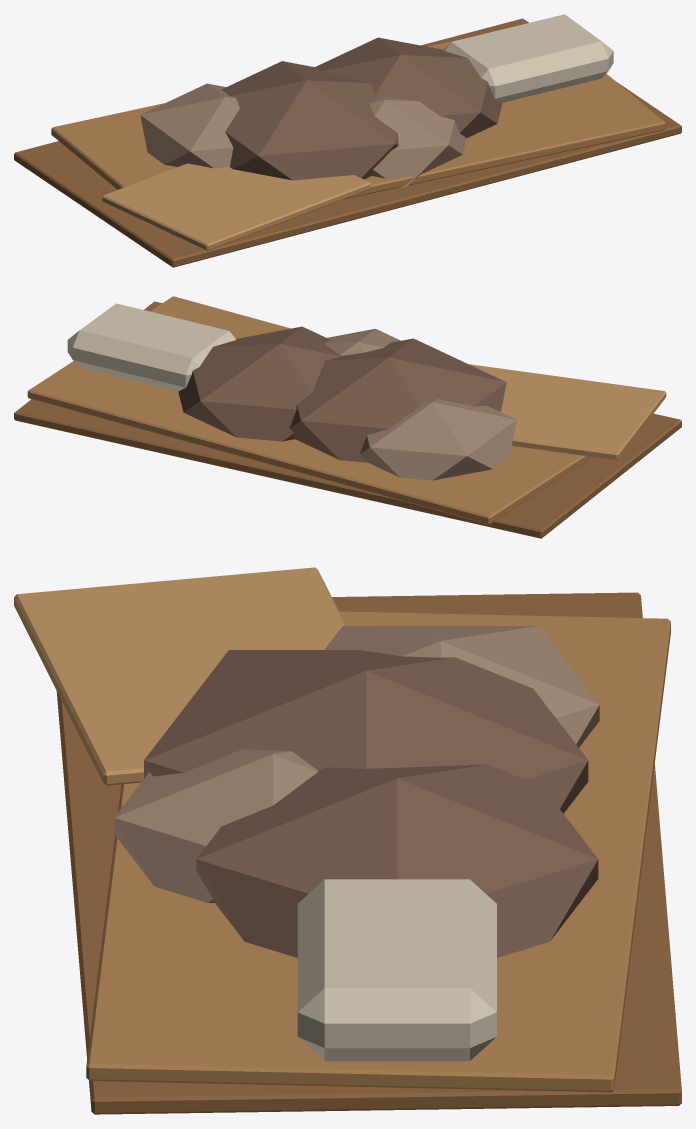
File: cardbed.glb
3 views of the same model, one above another, from view 1: azimuth 30°, elevation 25°; view 2: azimuth 150°, elevation 25°; view 3: azimuth 270°, elevation 25° (orthographic). The views are drawn at different scales.
Visible parts, largest first — view 1: cardbed; view 2: cardbed; view 3: cardbed.
Part boxes in pixels (x1,y1,x2,y2): cardbed: (14,14,681,267); cardbed: (14,296,681,538); cardbed: (14,567,681,1114).
Bounding box in the file's own units: 1.93 × 0.378 × 1.07.
